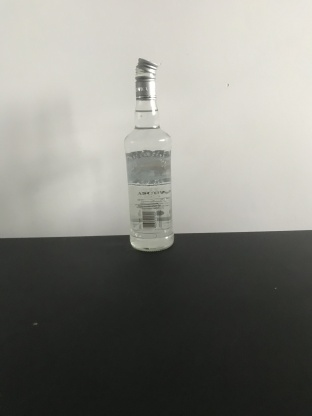nakretka: (133, 55, 159, 100)
